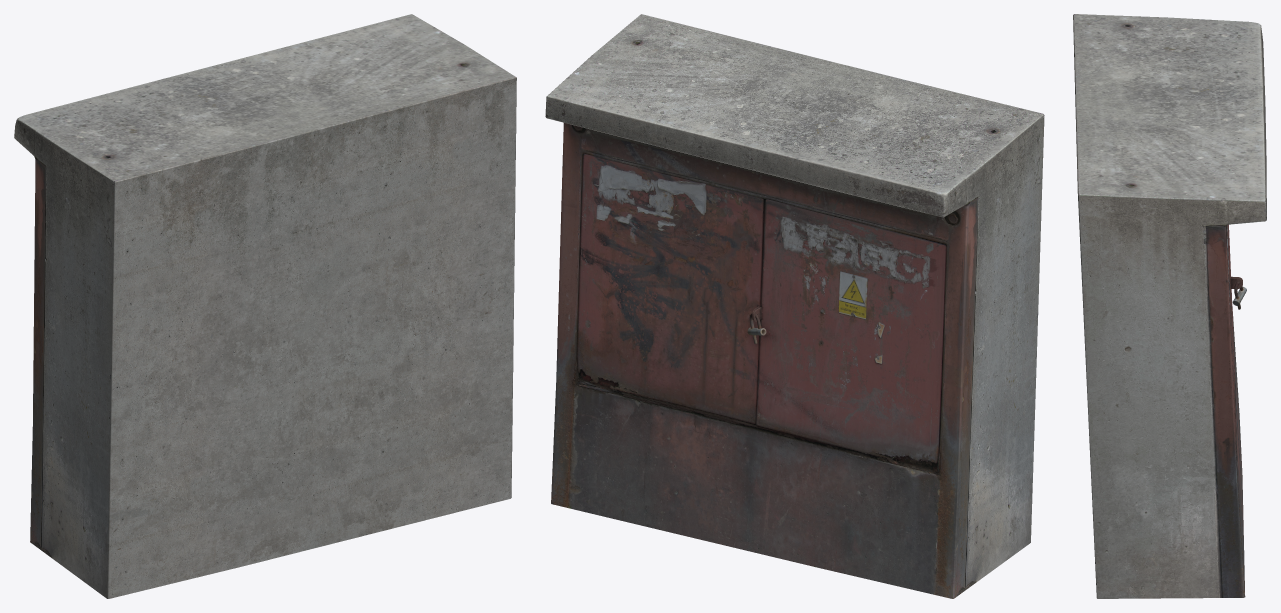
File: sm_FuseBox_01_01.fbx
3 views of the same model, side by side, from view 1: azimuth 30°, elevation 25°; view 2: azimuth 150°, elevation 25°; view 3: azimuth 270°, elevation 25° (orthographic). The views are drawn at different scales.
Visible parts, largest first — view 1: sm_FuseBox_01_01_LOD0; view 2: sm_FuseBox_01_01_LOD0; view 3: sm_FuseBox_01_01_LOD0.
Boxes of the visible parts, bbox=[...] form: sm_FuseBox_01_01_LOD0: bbox=[14, 14, 516, 598]; sm_FuseBox_01_01_LOD0: bbox=[545, 14, 1044, 598]; sm_FuseBox_01_01_LOD0: bbox=[1073, 14, 1266, 598].
Size of the model in its own units: 47.02 by 108 by 108.
